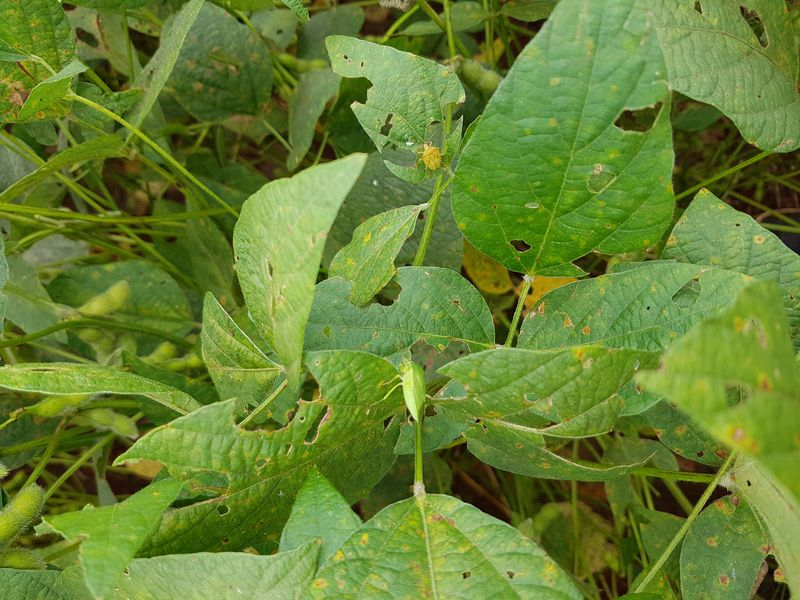Euschistus_heros_adulto: (4, 83, 37, 115)
Euschistus_heros_ninfa: (411, 138, 448, 177)
Nezara_viridula_adulto: (365, 354, 434, 428)
